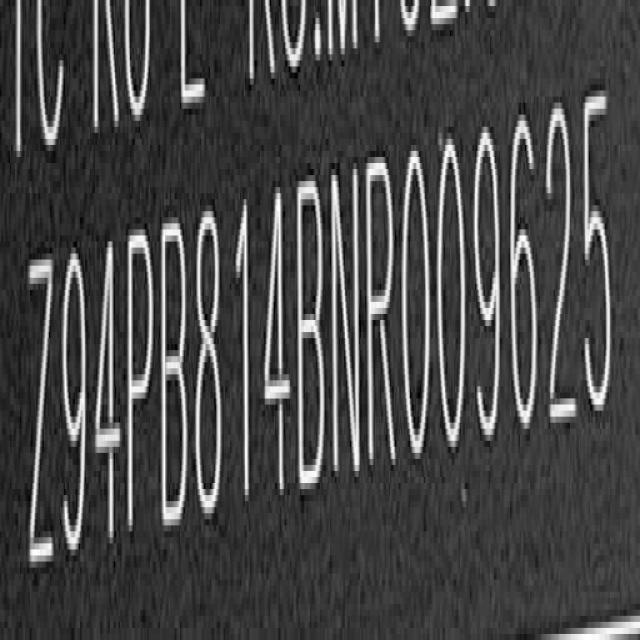0: (401, 139, 434, 468), (437, 136, 467, 452)
1: (235, 198, 253, 513)
2: (548, 101, 579, 436)
4: (262, 176, 293, 504), (94, 238, 124, 555)
5: (584, 82, 616, 421)
6: (508, 108, 542, 438)
8: (196, 209, 226, 520)
9: (472, 124, 502, 448), (61, 246, 89, 567)
B: (298, 171, 329, 495), (160, 215, 191, 538)
N: (332, 160, 364, 484)
P: (128, 223, 157, 545)
R: (366, 154, 398, 474)
Z: (29, 246, 56, 583)
